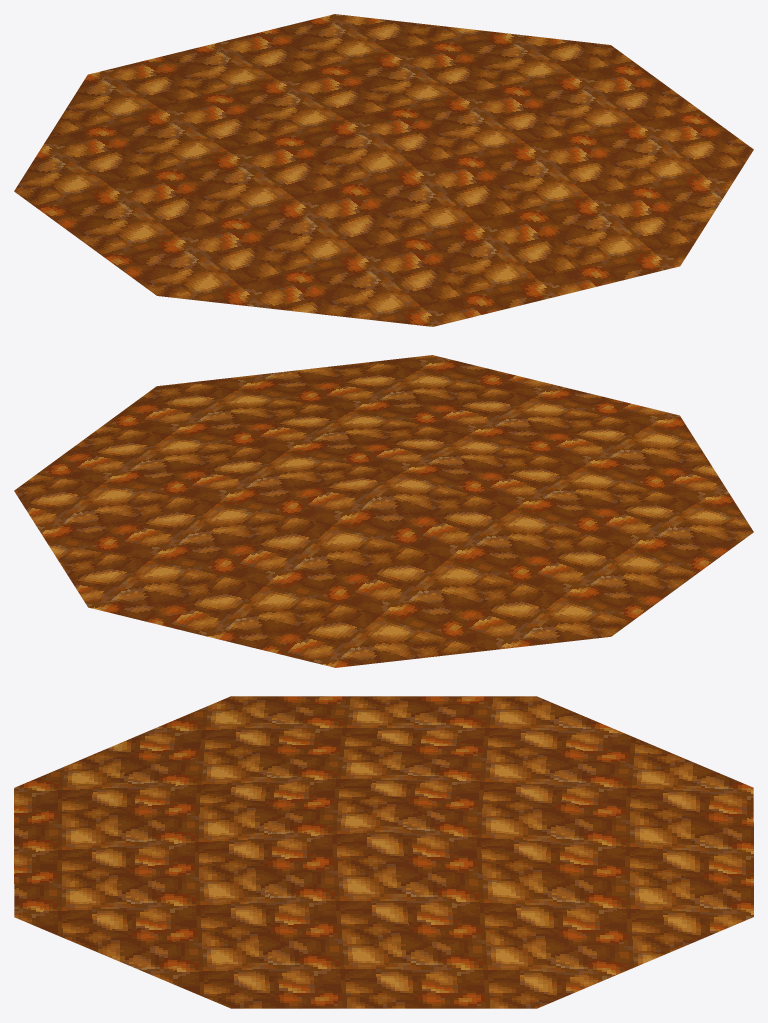
The model's file is 1100item571.gltf.
The picture shows the model from 3 angles, top to bottom: view 1: azimuth 30°, elevation 25°; view 2: azimuth 150°, elevation 25°; view 3: azimuth 270°, elevation 25°; orthographic projection. The views are drawn at different scales.
Visible parts, largest first — view 1: 1100item571; view 2: 1100item571; view 3: 1100item571.
Part boxes in pixels (x1=…): 1100item571: x1=14, y1=14, x2=753, y2=326; 1100item571: x1=14, y1=355, x2=753, y2=667; 1100item571: x1=14, y1=696, x2=753, y2=1008.
Size of the model in its own units: 0.5031 by 0.0186 by 0.5031.
Materials: 1 (1 with a texture image).
